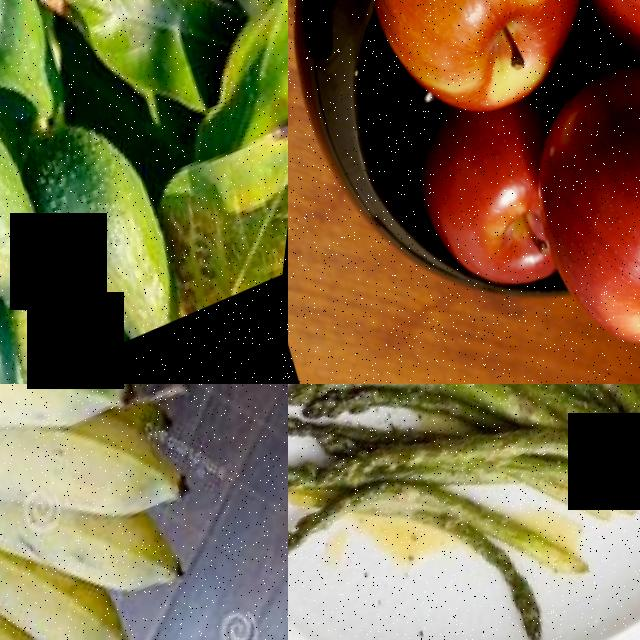apple: (398, 90, 624, 329), (340, 0, 640, 166), (497, 50, 640, 384)
avocado: (4, 89, 231, 367), (0, 47, 106, 369), (0, 0, 112, 178), (0, 268, 29, 384)
banana: (0, 384, 288, 640)
